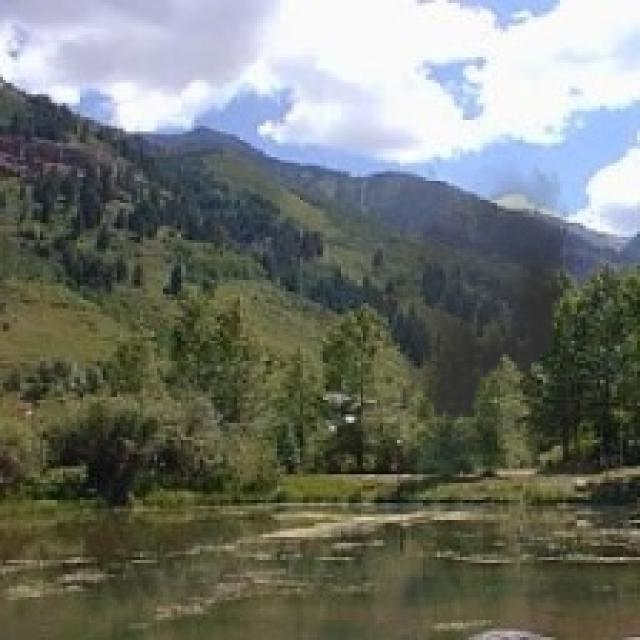smoke: (360, 152, 574, 432)
